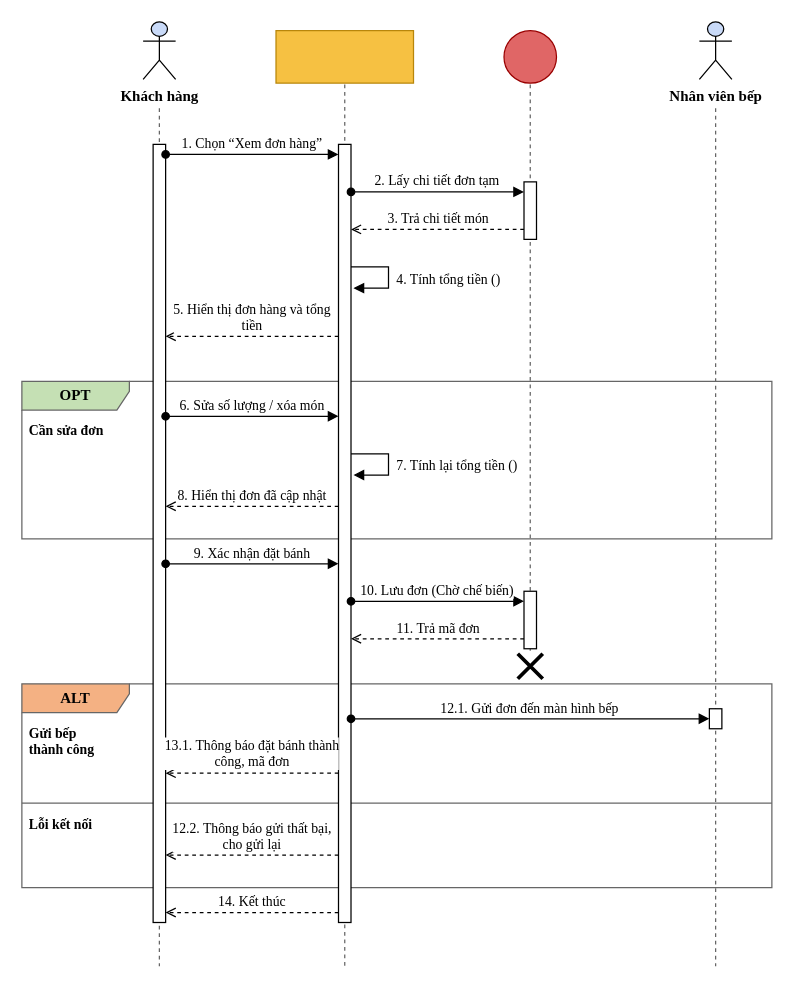
Some shapes in this 795 by 990 pixel diagram are drawn without their labels. The centre of each missing label's shape, as x and y in pixels:
"CSDL" belongs at (529,56).
"HỆ THỐNG" belongs at (344,56).
